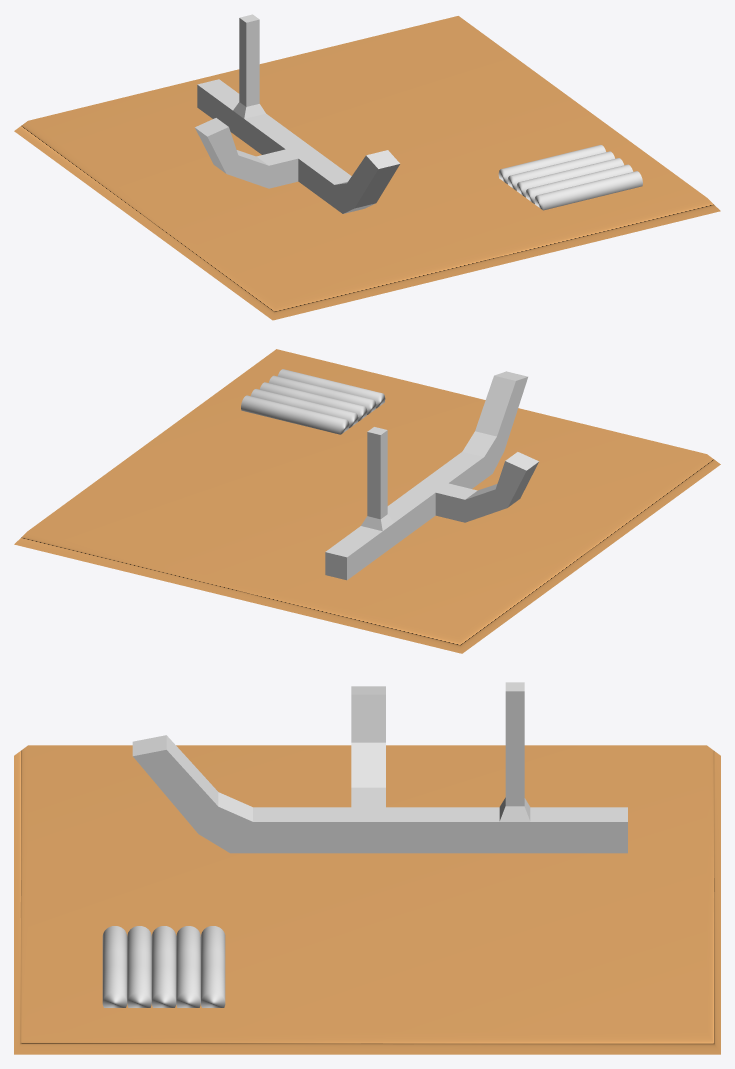
File: shipWright.glb
3 views of the same model, one above another, from view 1: azimuth 30°, elevation 25°; view 2: azimuth 150°, elevation 25°; view 3: azimuth 270°, elevation 25° (orthographic). The views are drawn at different scales.
Visible parts, largest first — view 1: Cube, Cube.001, Cylinder.001; view 2: Cube, Cube.001, Cylinder.001; view 3: Cube, Cube.001, Cylinder.001.
Boxes of the visible parts, left/top/right/bottom form: Cube: left=14, top=16, right=720, bottom=320; Cube.001: left=195, top=14, right=399, bottom=213; Cylinder.001: left=498, top=145, right=642, bottom=210; Cube: left=14, top=349, right=720, bottom=653; Cube.001: left=325, top=371, right=538, bottom=580; Cylinder.001: left=241, top=369, right=385, bottom=434; Cube: left=14, top=745, right=720, bottom=1054; Cube.001: left=132, top=682, right=627, bottom=853; Cylinder.001: left=102, top=926, right=225, bottom=1007.
Size of the model in its own units: 3.55 by 0.9727 by 3.55.
